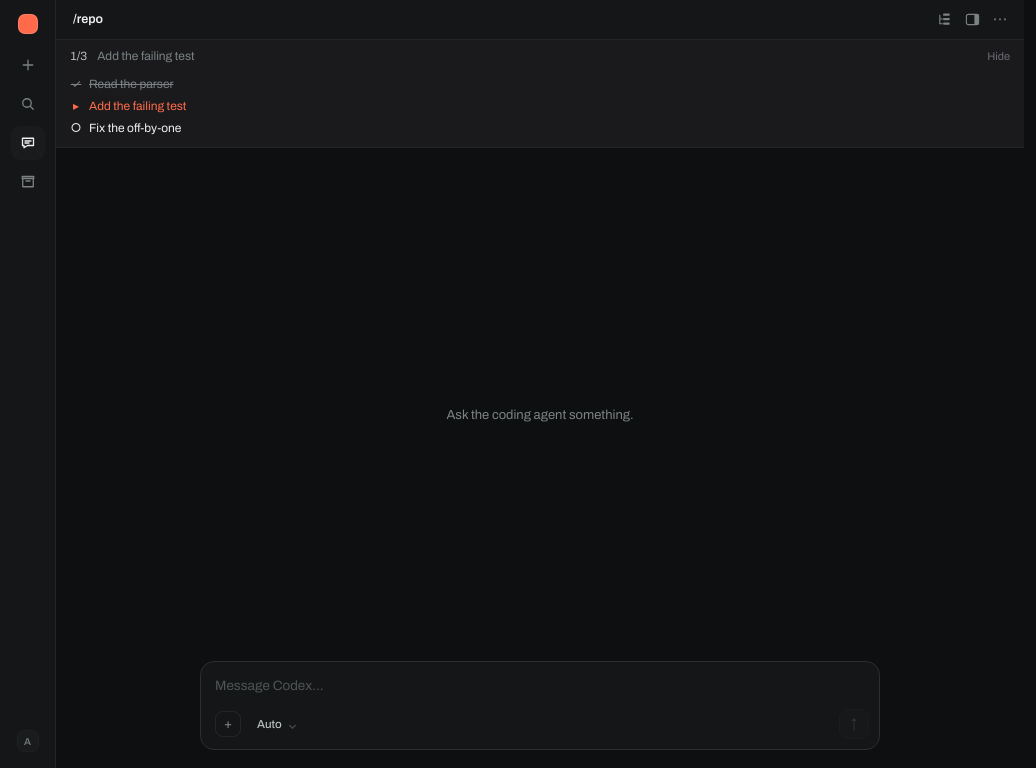
plan strip (§8.3) › surfaces the step in flight in the collapsed header
Step 1. Click the text "Hide" → (999, 56), box [987,48,1010,65]
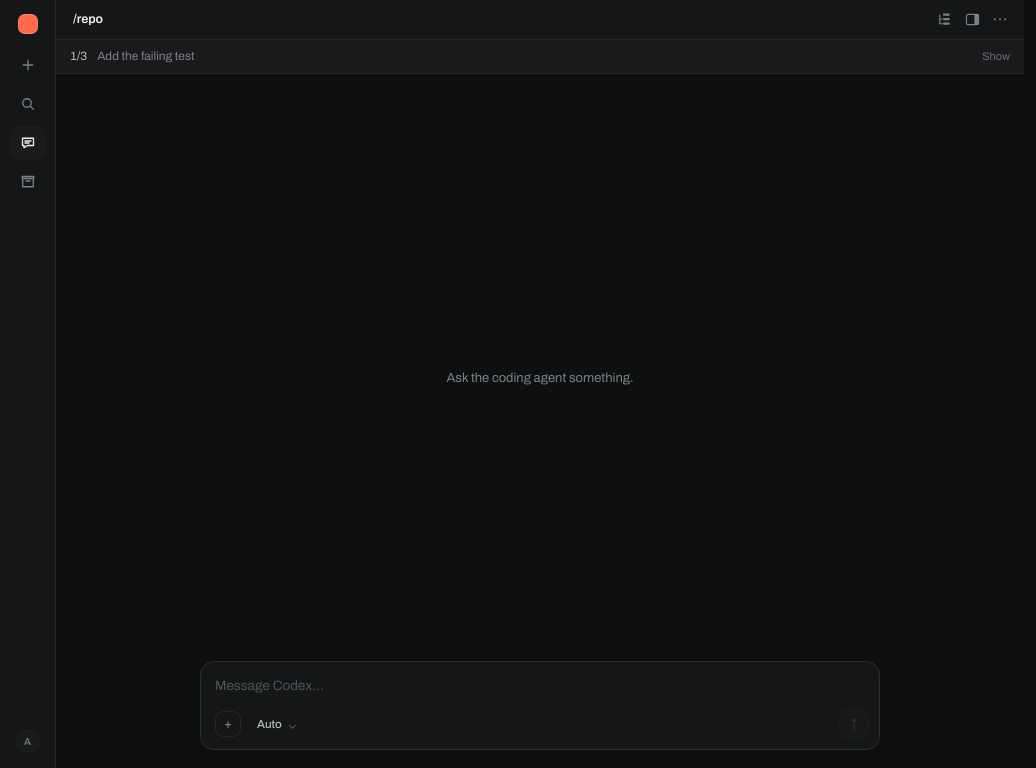
Expected: the text "Add the failing test" is shown, [97,49,195,63]
Result: the text "Fix the off-by-one" is gone
